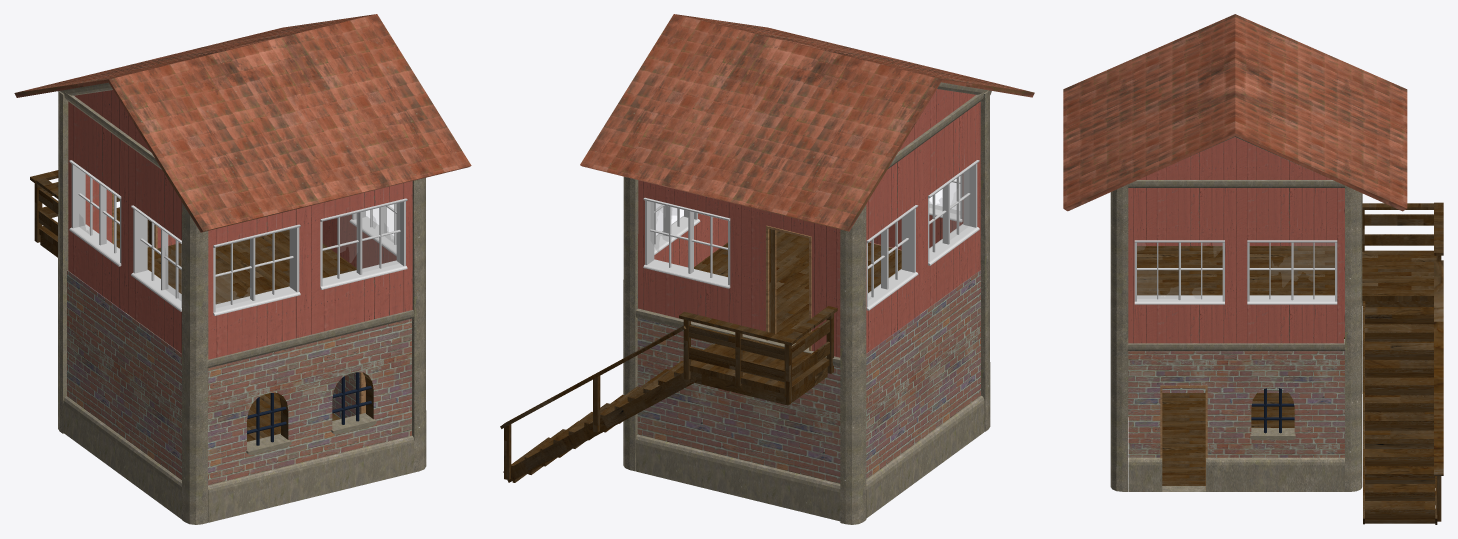
The model's file is signal_box_ruined.glb.
3 renders of one model, left to right at view 1: azimuth 30°, elevation 25°; view 2: azimuth 150°, elevation 25°; view 3: azimuth 270°, elevation 25°, orthographic. The views are drawn at different scales.
Visible parts, largest first — view 1: Cube.1361; view 2: Cube.1361; view 3: Cube.1361.
Part boxes in pixels (bbox=[...]): Cube.1361: bbox=[14, 14, 471, 524]; Cube.1361: bbox=[500, 14, 1034, 524]; Cube.1361: bbox=[1063, 14, 1443, 524].
Size of the model in its own units: 6.39 by 7.49 by 7.03.
Materials: 9 (6 with a texture image).
